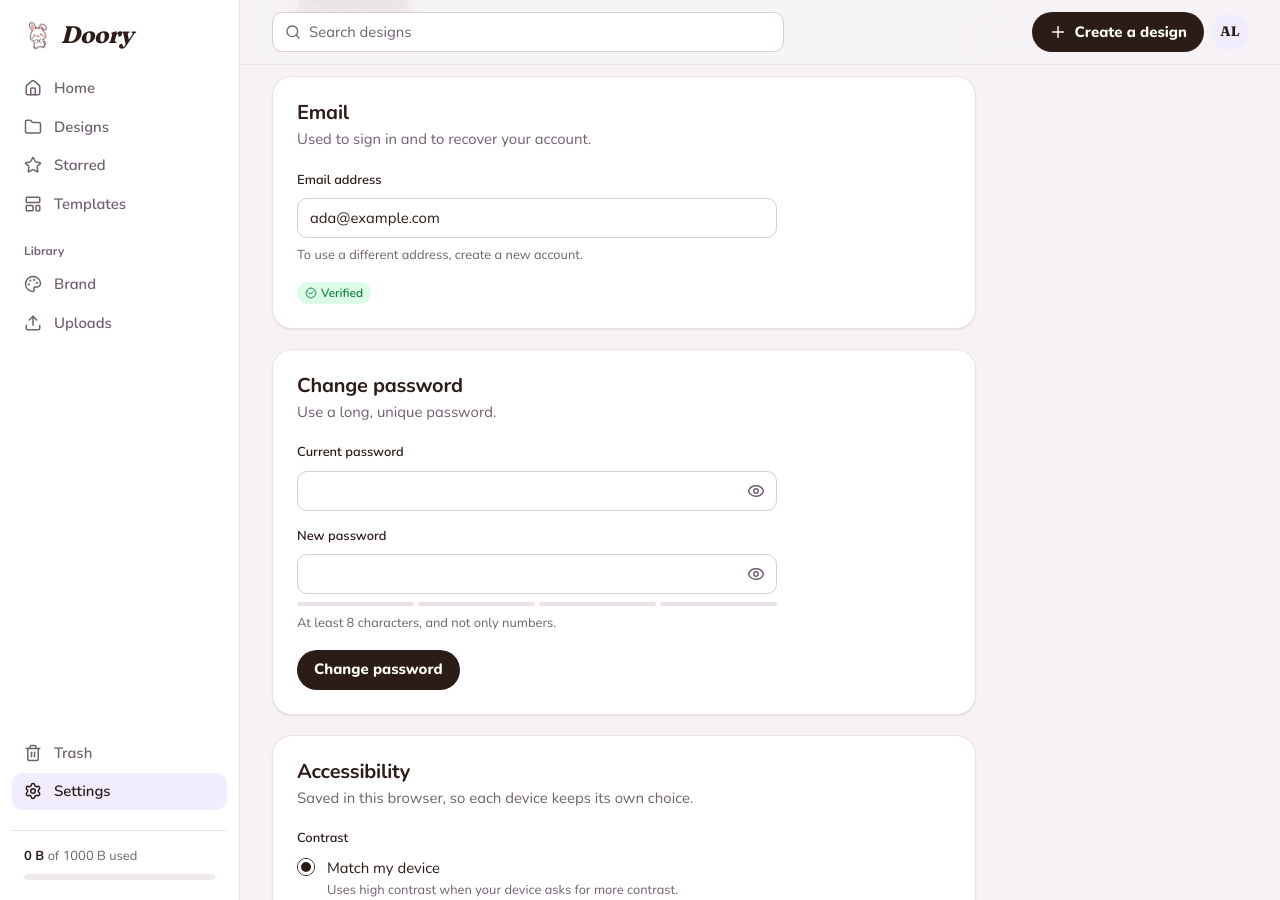
Test case: settings: password › changes the password using the current one
This screenshot has width=1280, height=900.
(page scrolled)
Type "old-secret" into the password field labelled "Current password" at (521,491), box [310,472,732,510]
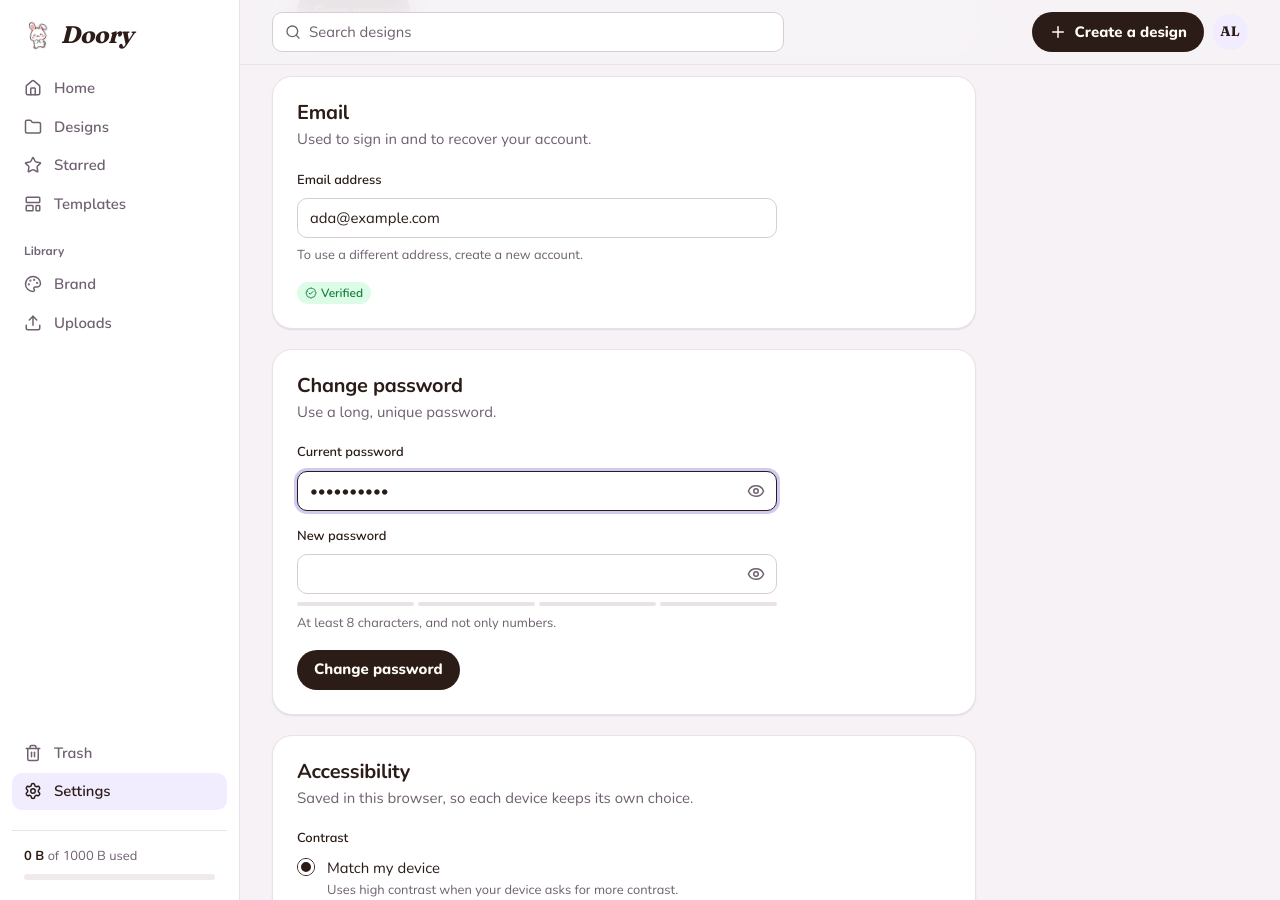
Type "new-secret-123" into the password field labelled "New password" at (521,574), box [310,555,732,593]
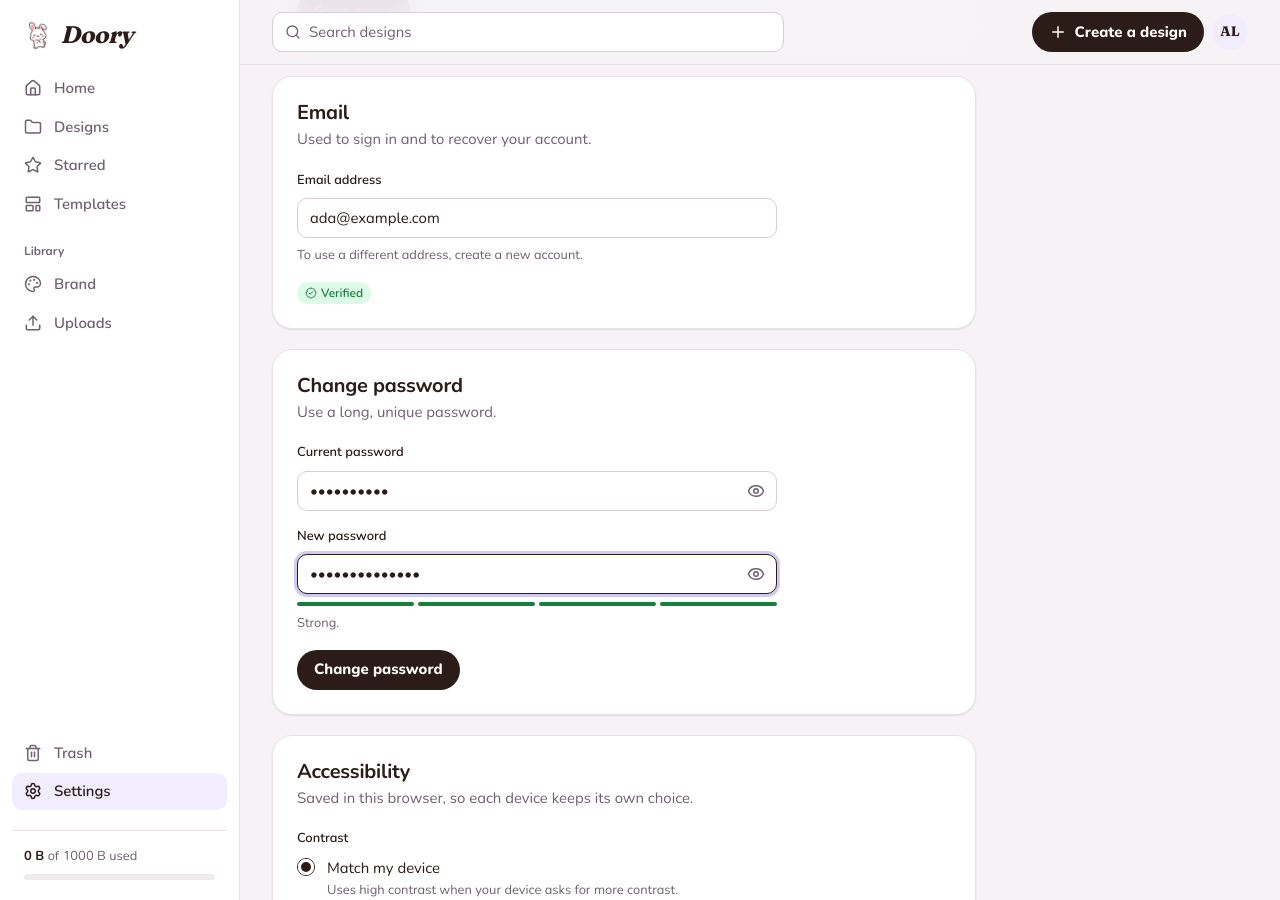
Click the button "Change password" at (378,670), box [297,650,460,690]
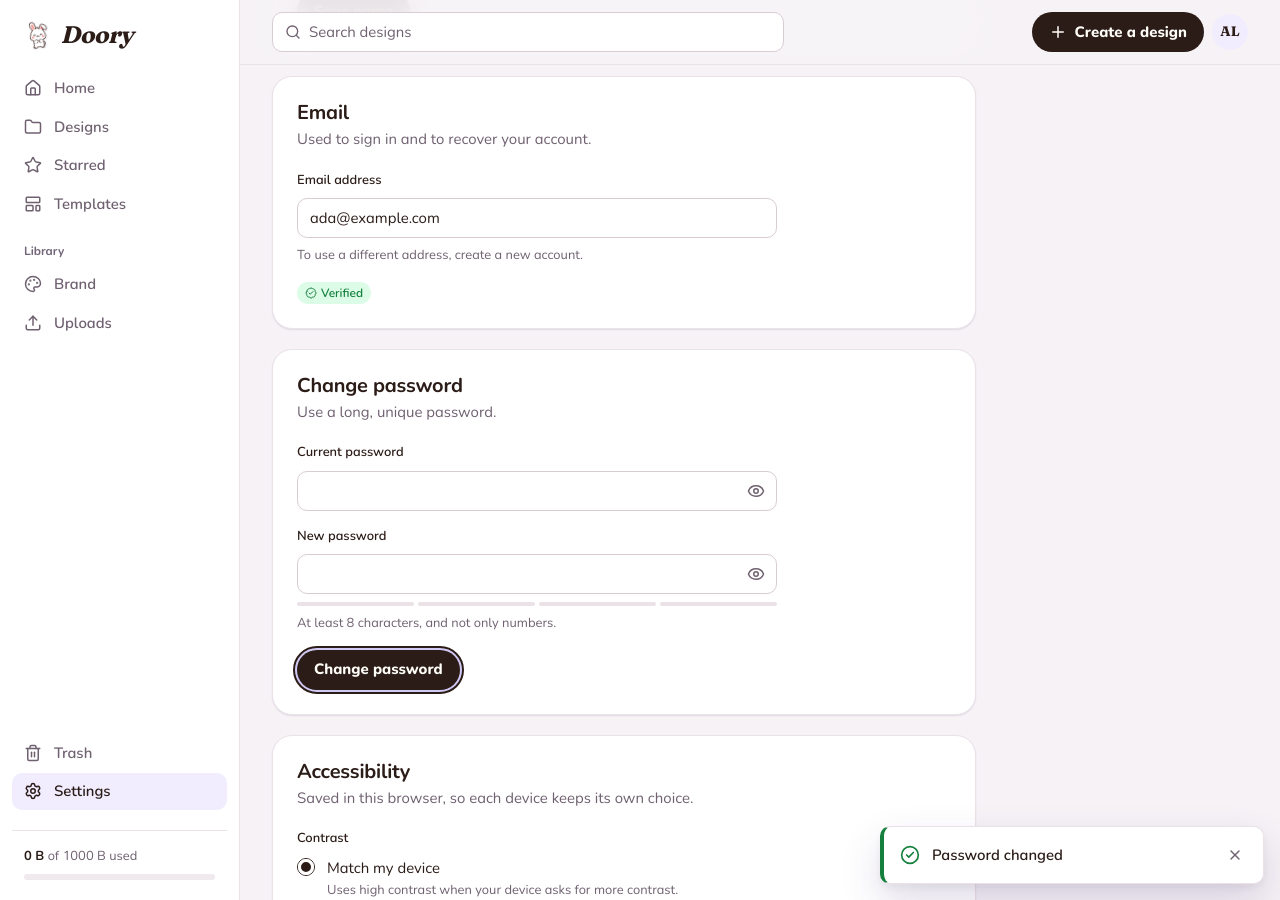
Check: the text "Password changed" is shown, box [932,845,1063,865]
Check: the password field labelled "Current password" is empty, box [310,472,732,510]
